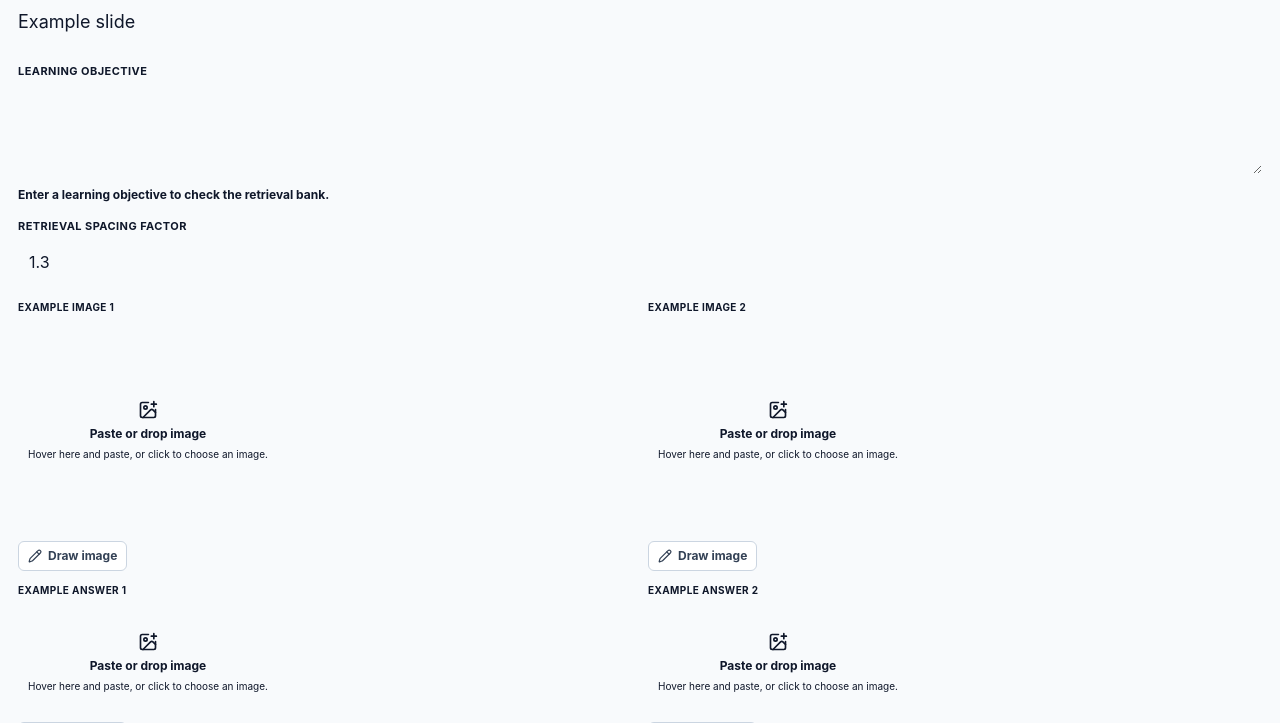
Scenario: ExampleComposer › loads all global retrieval image pairs without creating class tracking
In the text box labelled "Learning objective": [640, 130] box [18,86,1262,174], type "101A"
(page scrolled)
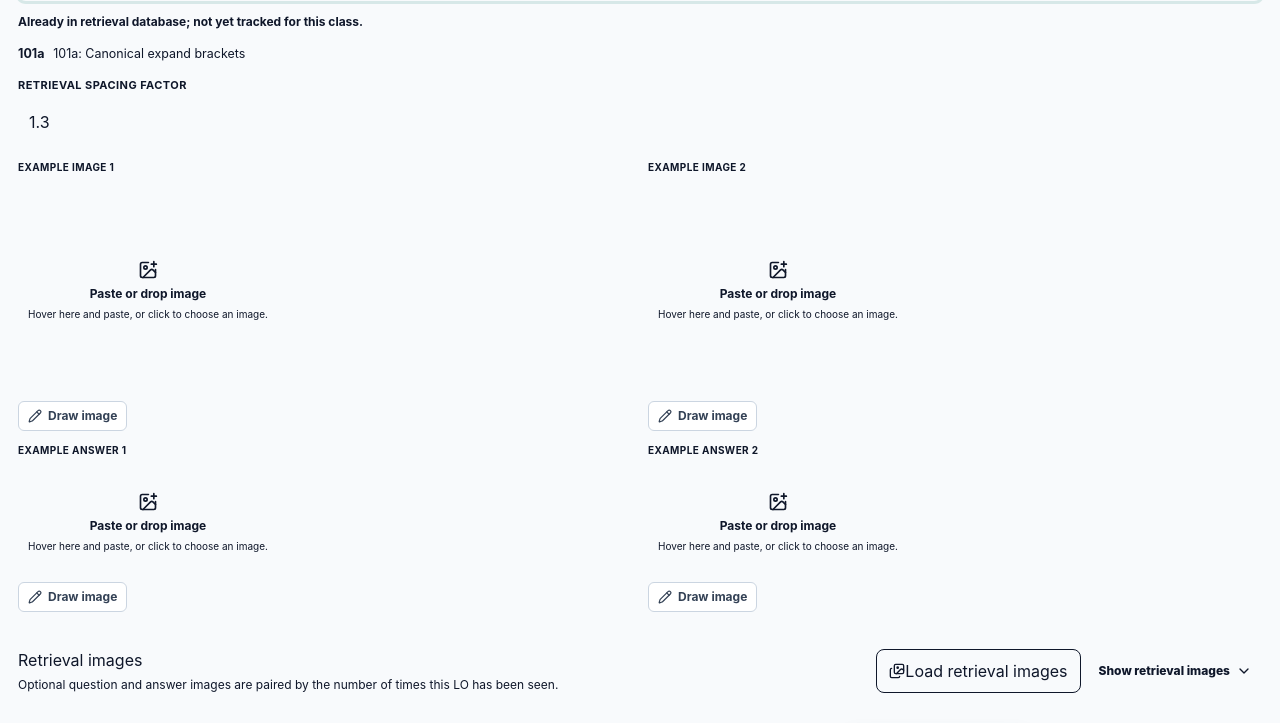
Now the button "Load retrieval images" is enabled
Click the button "Load retrieval images": [978, 671] box [876,649,1080,693]
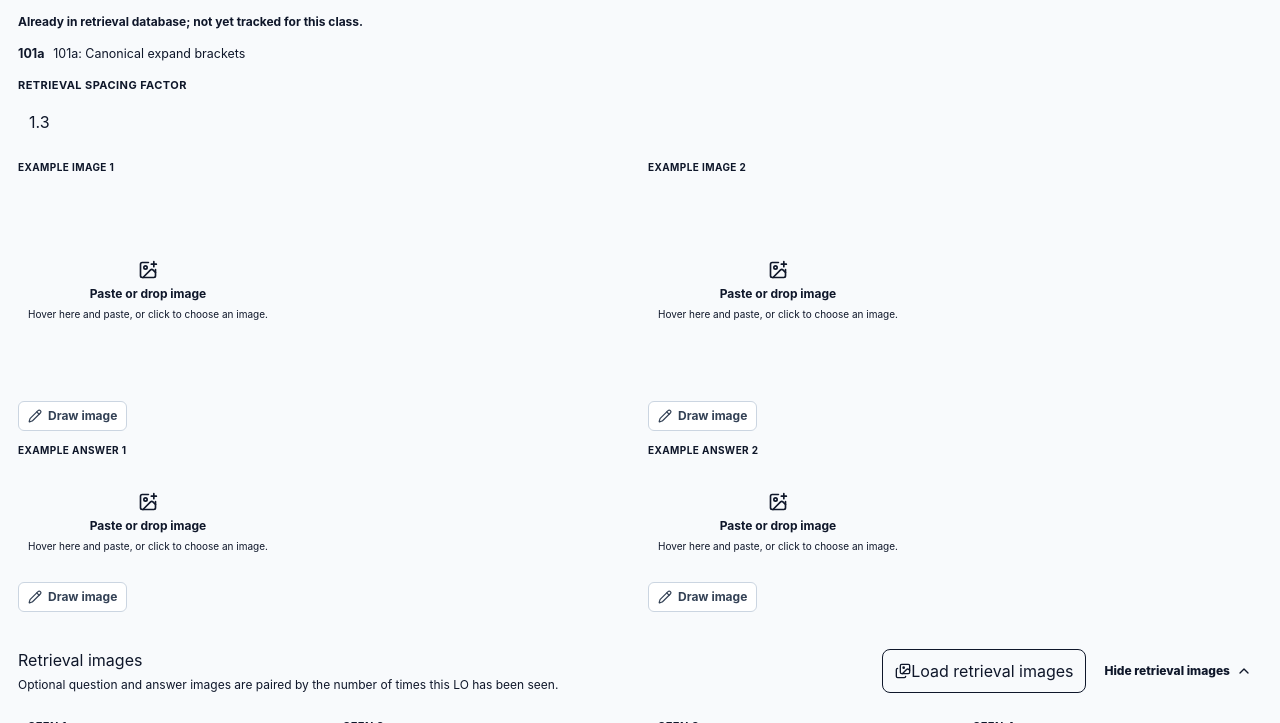
Now the number of pictures with alt text "Question image 1 preview" is 8
